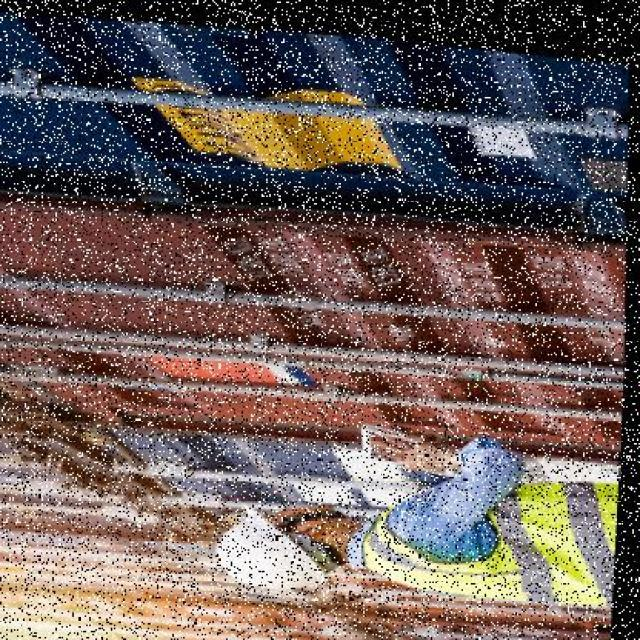helmet: (215, 480, 339, 599)
vest: (355, 442, 623, 605)
